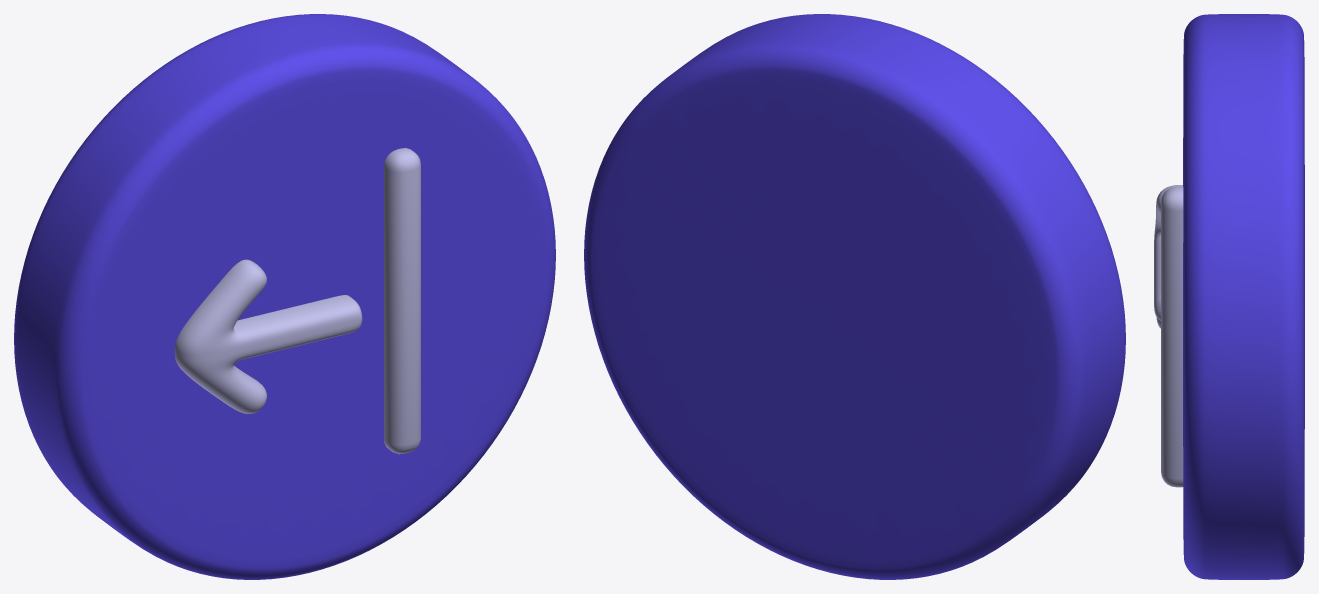
The model's file is hide-sidebar-animated-3d-icon-1068337314072.glb.
The picture shows the model from 3 angles, left to right: view 1: azimuth 30°, elevation 25°; view 2: azimuth 150°, elevation 25°; view 3: azimuth 270°, elevation 25°; orthographic projection.
Parts seen in each view (by area): view 1: Base.008, Arrow Base.006, Cube.001; view 2: Base.008; view 3: Base.008, Cube.001, Arrow Base.006.
Part boxes in pixels (box(x1,y1,x2,y2)): Base.008: box(14, 14, 555, 579); Arrow Base.006: box(174, 259, 362, 413); Cube.001: box(384, 148, 420, 454); Base.008: box(584, 14, 1125, 579); Base.008: box(1183, 14, 1304, 579); Cube.001: box(1161, 186, 1183, 487); Arrow Base.006: box(1154, 185, 1182, 328).
Bounding box in the file's own units: 1.99 × 1.99 × 0.5297.
